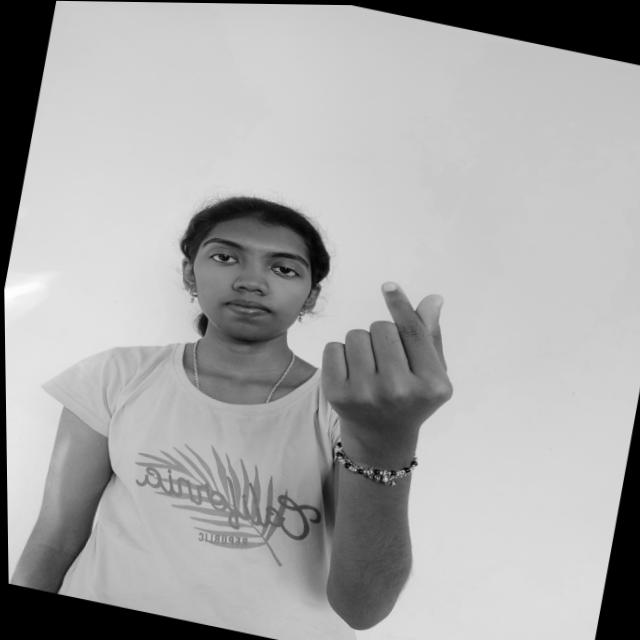Grattitude: (298, 260, 481, 453)
